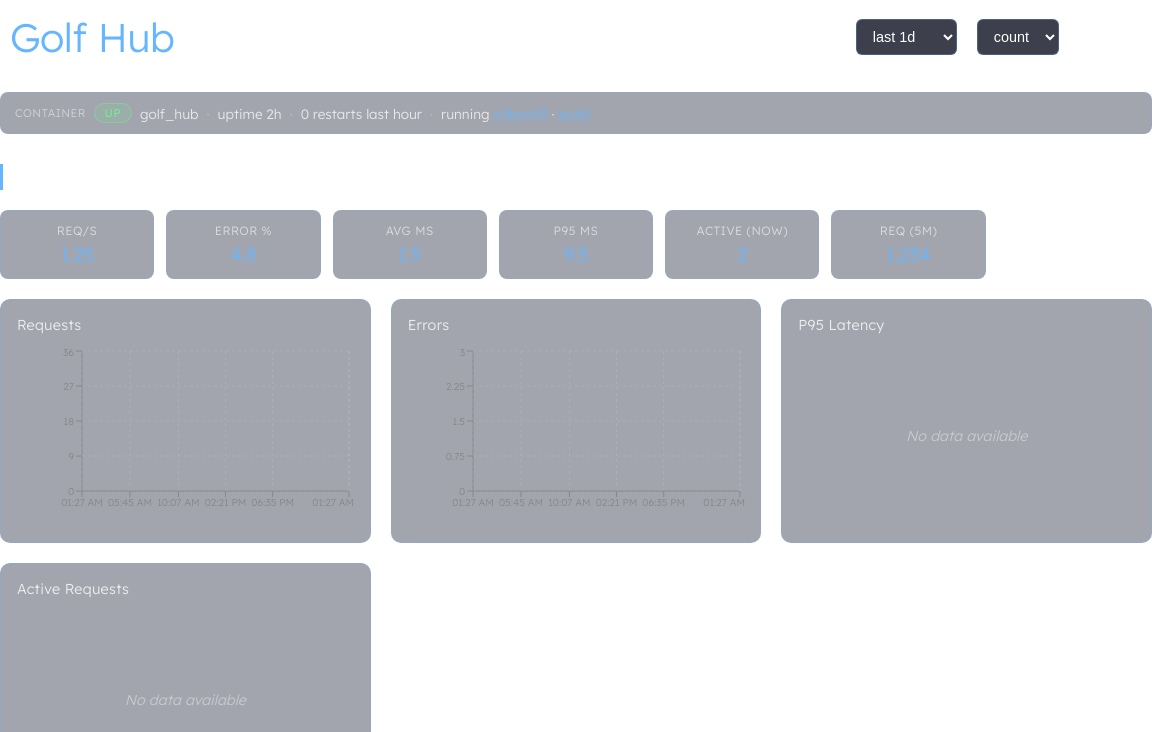
ServiceDashboard › switches the Error Rate chart between error_count and error_rate_percent
Expected: the heading "Errors" is shown, [408, 316, 450, 334]
Expected: the text "Error Rate" is not shown
Select "rate" in the dropdown named "Counter view" at x=1018, y=37, box [977, 19, 1059, 55]
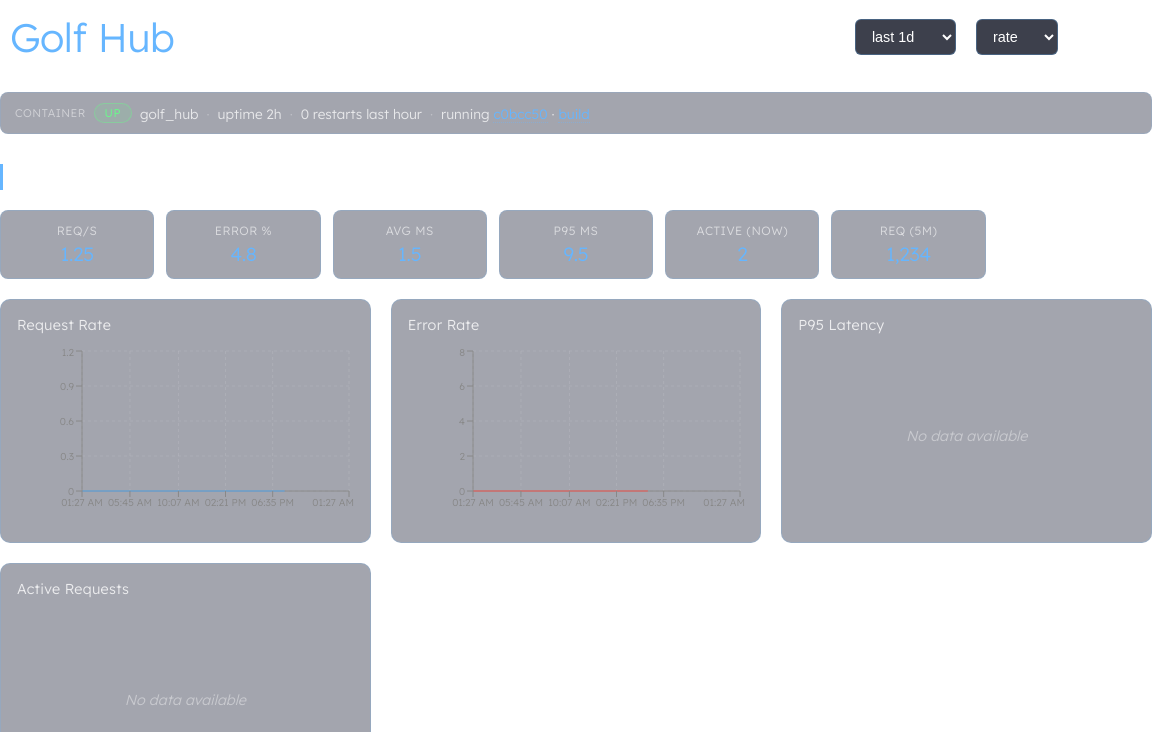
Result: the heading "Error Rate" is shown at [408, 316, 479, 334]
Result: the heading "Errors" is gone
